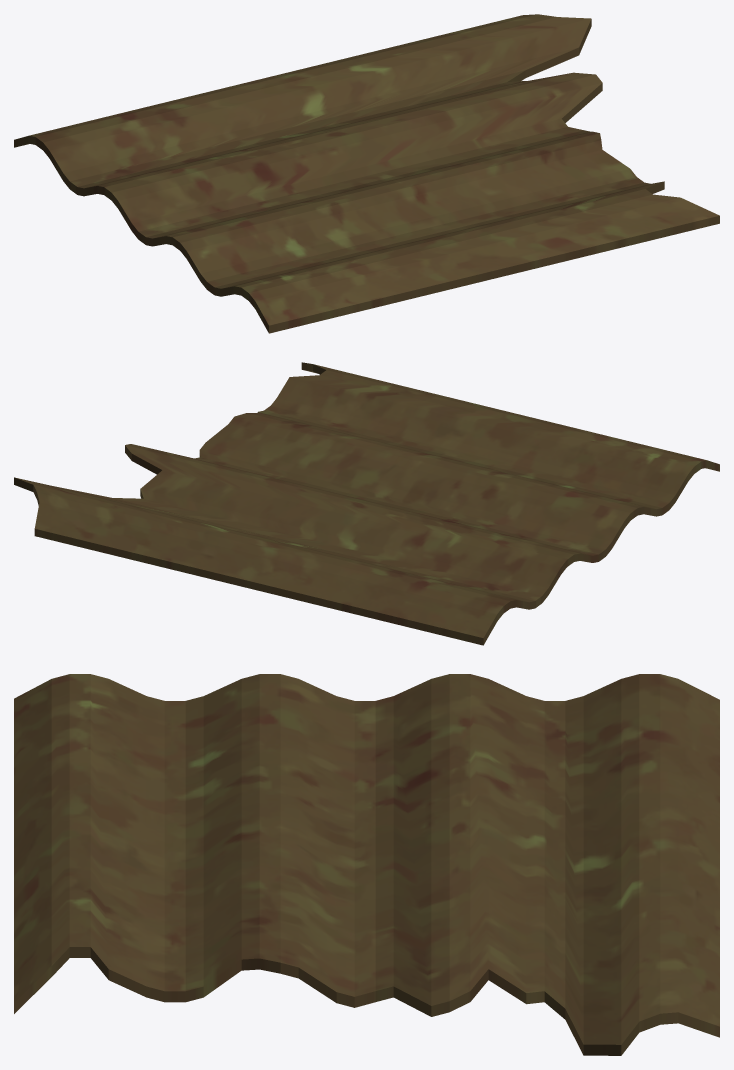
The model's file is metal scrap4.fbx.
3 views of the same model, one above another, from view 1: azimuth 30°, elevation 25°; view 2: azimuth 150°, elevation 25°; view 3: azimuth 270°, elevation 25° (orthographic). The views are drawn at different scales.
Visible parts, largest first — view 1: Plane.021; view 2: Plane.021; view 3: Plane.021.
Boxes of the visible parts, x1,y1,x2,y2 form: Plane.021: [14, 14, 719, 333]; Plane.021: [14, 362, 719, 645]; Plane.021: [14, 674, 719, 1055].
Bounding box in the file's own units: 220 × 10.64 × 180.
